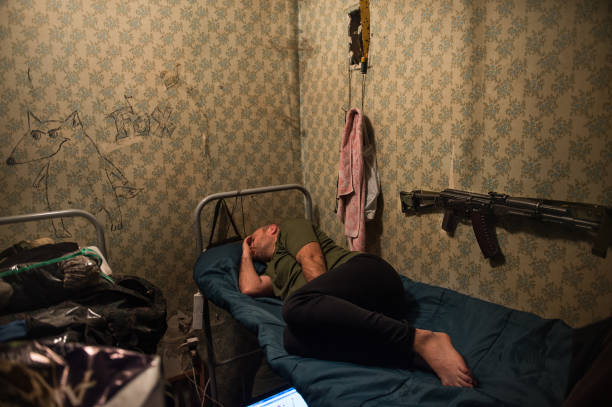rifle: (396, 182, 612, 275)
